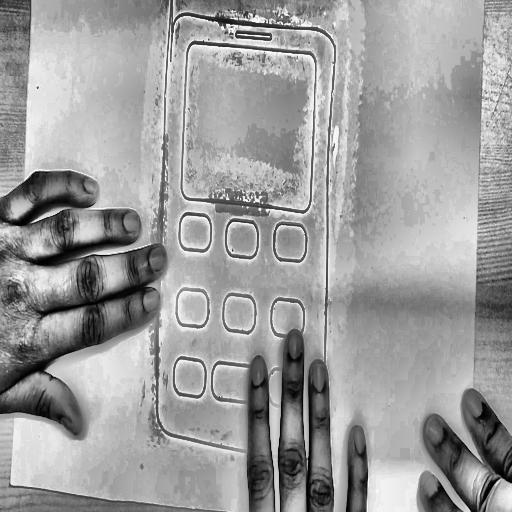bottom_left: (8, 479, 14, 489)
mobile: (150, 0, 341, 475)
